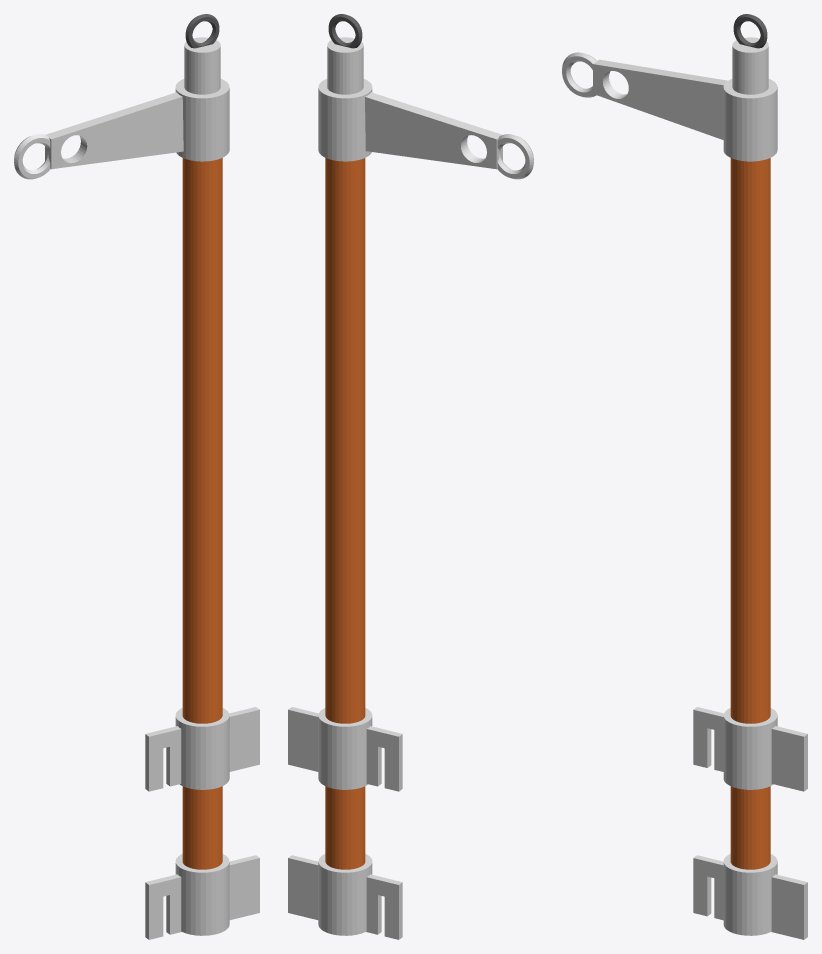
File: MASTRO PARA IÇAMENTO DE CARGAS.fbx
3 renders of one model, left to right at view 1: azimuth 30°, elevation 25°; view 2: azimuth 150°, elevation 25°; view 3: azimuth 330°, elevation 25°, orthographic.
Visible parts, largest first — view 1: Cilindro, Cubo, Cubo.002, Cubo.001, Cilindro.004, Cilindro.003, Cilindro.001, Cilindro.002, Torus, Torus.001; view 2: Cilindro, Cubo, Cubo.002, Cubo.001, Cilindro.004, Cilindro.001, Cilindro.003, Cilindro.002, Torus, Torus.001; view 3: Cilindro, Cubo, Cubo.002, Cubo.001, Cilindro.001, Cilindro.004, Cilindro.003, Cilindro.002, Torus, Torus.001.
Part boxes in pixels (x1,y1,x2,y2): Cilindro: (182, 158, 222, 869); Cubo: (45, 92, 183, 169); Cubo.002: (145, 855, 259, 939); Cubo.001: (145, 707, 259, 791); Cilindro.004: (175, 854, 229, 935); Cilindro.003: (175, 708, 229, 789); Cilindro.001: (175, 79, 229, 161); Cilindro.002: (184, 37, 220, 94); Torus: (14, 134, 50, 179); Torus.001: (185, 14, 219, 48); Cilindro: (325, 158, 365, 869); Cubo: (365, 92, 502, 169); Cubo.002: (288, 855, 402, 939); Cubo.001: (288, 707, 402, 791); Cilindro.004: (318, 854, 372, 935); Cilindro.001: (318, 79, 372, 161); Cilindro.003: (318, 708, 372, 789); Cilindro.002: (327, 37, 363, 94); Torus: (497, 134, 533, 179); Torus.001: (328, 14, 362, 48); Cilindro: (730, 158, 770, 869); Cubo: (593, 59, 727, 139); Cubo.002: (693, 855, 807, 939); Cubo.001: (693, 707, 807, 791); Cilindro.001: (723, 79, 777, 161); Cilindro.004: (723, 854, 777, 935); Cilindro.003: (723, 708, 777, 789); Cilindro.002: (732, 37, 768, 94); Torus: (562, 52, 596, 97); Torus.001: (733, 14, 767, 48).
Size of the model in its own units: 281 by 1003 by 54.
